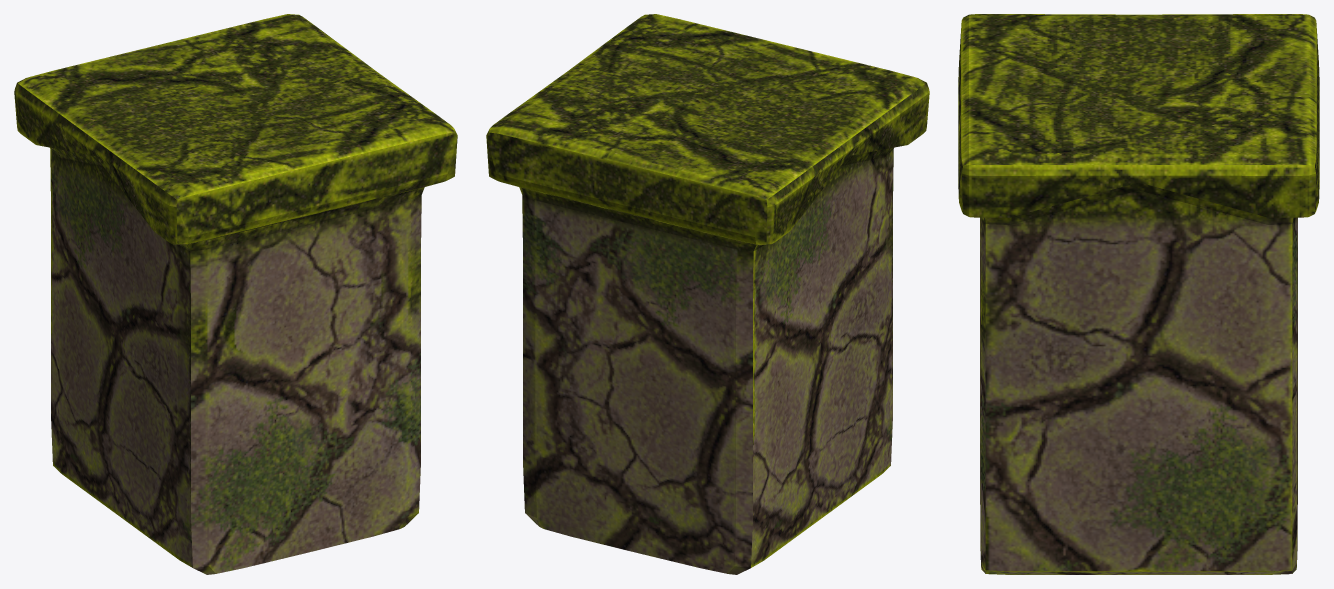
The model's file is StoneWall_Pillar.fbx.
3 views of the same model, side by side, from view 1: azimuth 30°, elevation 25°; view 2: azimuth 150°, elevation 25°; view 3: azimuth 270°, elevation 25° (orthographic). The views are drawn at different scales.
Visible parts, largest first — view 1: StoneWallPillar; view 2: StoneWallPillar; view 3: StoneWallPillar.
Part boxes in pixels (x1,y1,x2,y2): StoneWallPillar: [14, 14, 457, 574]; StoneWallPillar: [486, 14, 929, 574]; StoneWallPillar: [958, 14, 1319, 574].
Size of the model in its own units: 485 by 641 by 478.
1 material, 1 textured.
